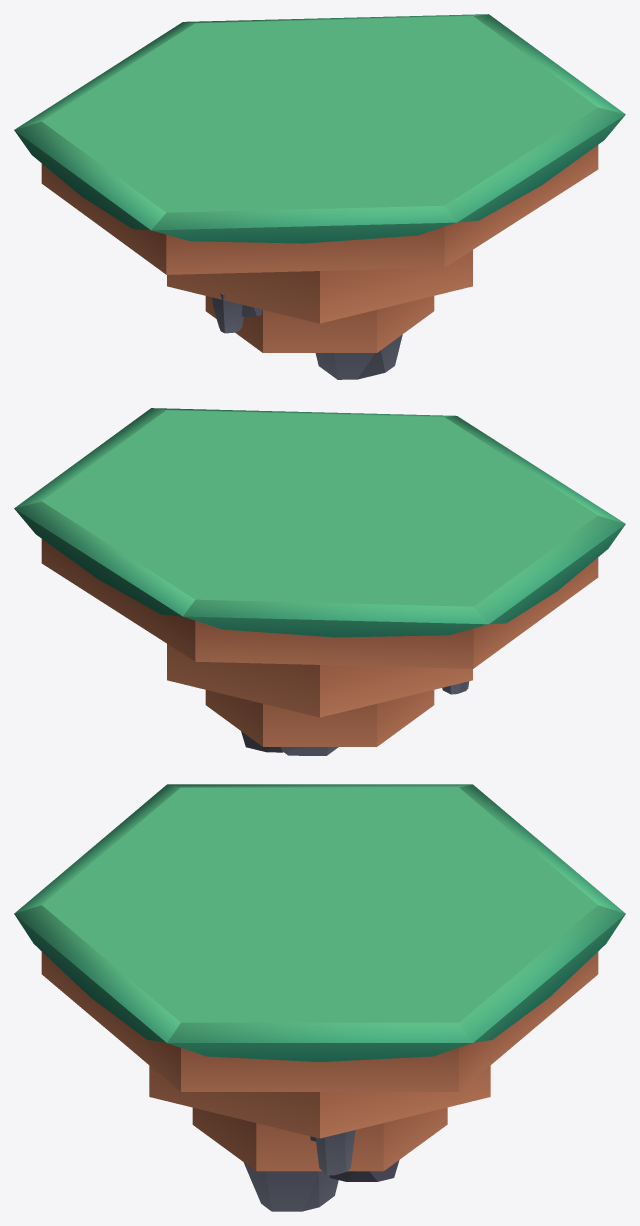
The model's file is island-a.glb.
3 views of the same model, one above another, from view 1: azimuth 30°, elevation 25°; view 2: azimuth 150°, elevation 25°; view 3: azimuth 270°, elevation 25° (orthographic). The views are drawn at different scales.
Visible parts, largest first — view 1: island-a; view 2: island-a; view 3: island-a.
Part boxes in pixels (x1,y1,x2,y2): island-a: (14, 14, 625, 379); island-a: (14, 408, 625, 755); island-a: (14, 784, 625, 1211).
Size of the model in its own units: 24 by 12 by 24.
Materials: 1 (1 with a texture image).
